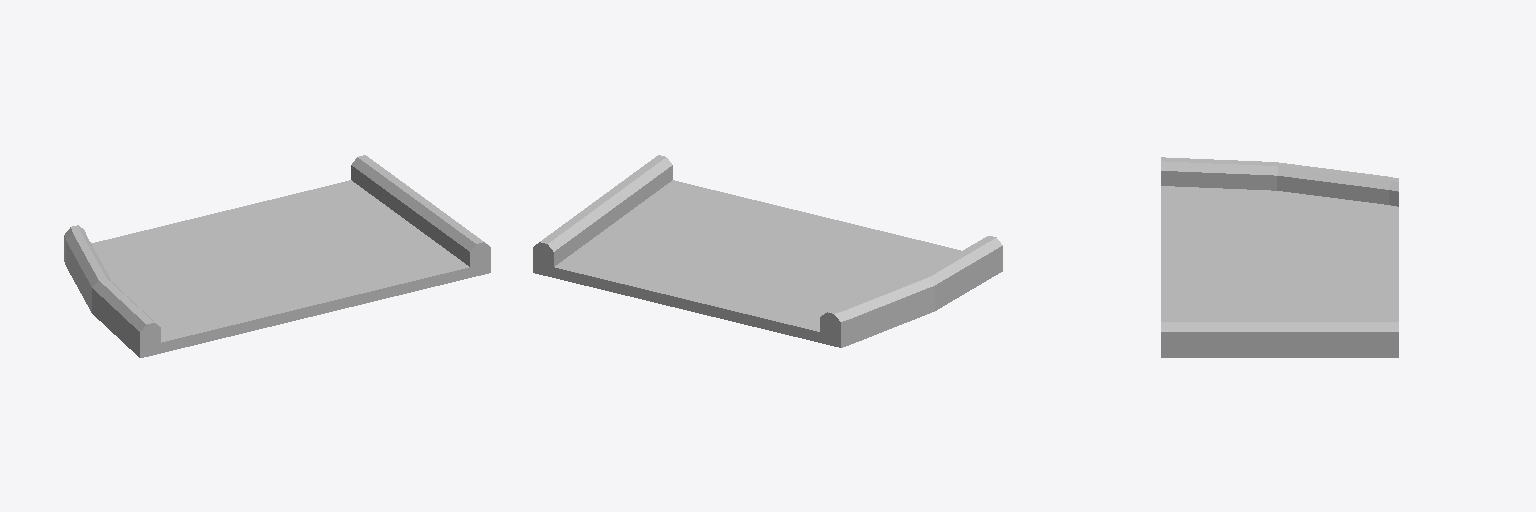
The model's file is runoff_transition1.obj.
The picture shows the model from 3 angles: view 1: azimuth 30°, elevation 25°; view 2: azimuth 150°, elevation 25°; view 3: azimuth 270°, elevation 25°; orthographic projection.
Parts seen in each view (by area): view 1: object1, object2, object3, object4; view 2: object1, object2, object3, object4; view 3: object1, object2, object4, object3.
Part boxes in pixels (left/top/right/bottom): object1: left=145, top=180, right=469, bottom=327; object2: left=91, top=230, right=263, bottom=352; object3: left=64, top=225, right=160, bottom=357; object4: left=351, top=155, right=490, bottom=277; object1: left=554, top=180, right=878, bottom=327; object2: left=760, top=230, right=960, bottom=342; object3: left=820, top=236, right=1002, bottom=347; object4: left=533, top=155, right=672, bottom=277; object1: left=1161, top=236, right=1398, bottom=317; object2: left=1161, top=186, right=1398, bottom=235; object4: left=1161, top=318, right=1398, bottom=357; object3: left=1161, top=157, right=1398, bottom=206.
Bounding box in the file's own units: 1.7 × 0.15 × 1.